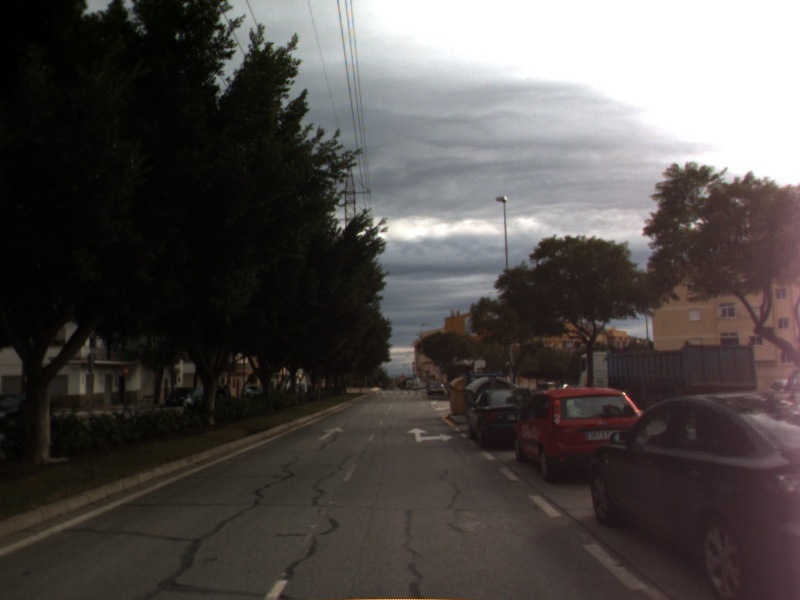STRAIGHT: (316, 424, 347, 442)
STRAIGHT_RIGHT: (405, 425, 456, 444)
